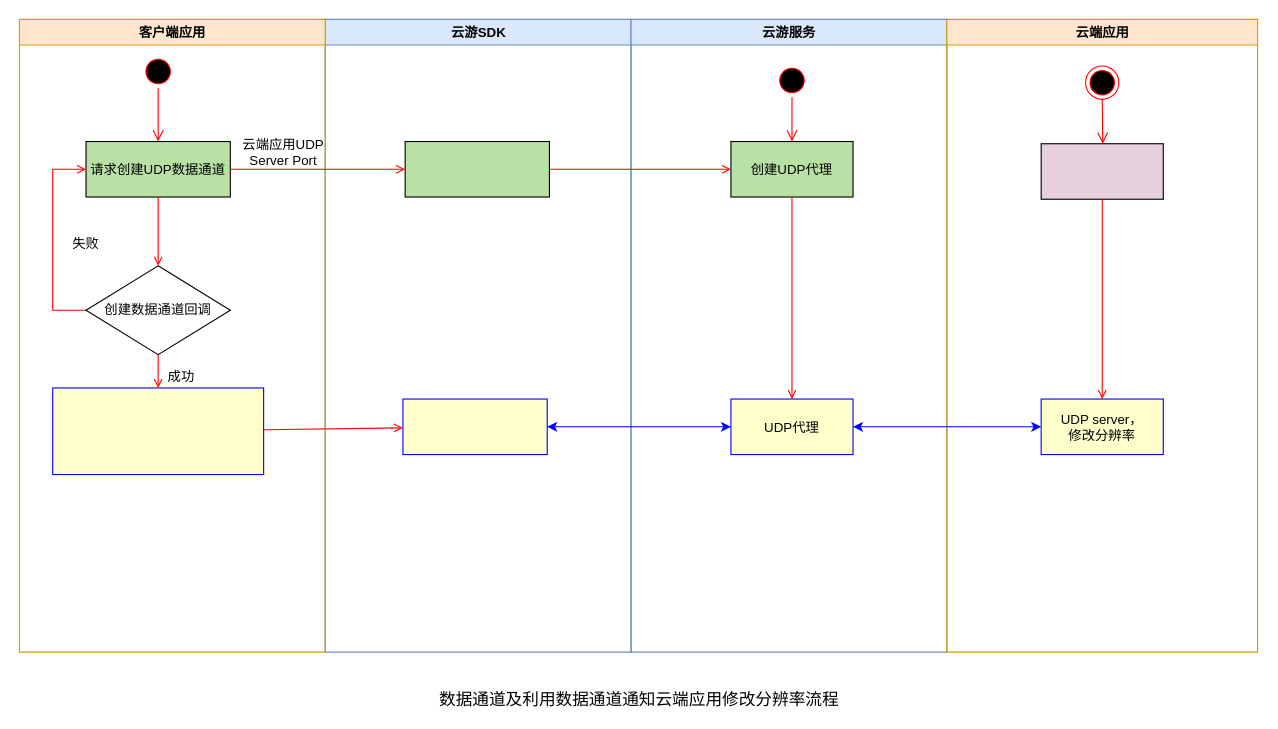
Image size: 1278x729. Some labels were removed from this diagram. Each missing label, with the centre of its shape:
"创建UDP server" belongs at pixel 1101 171.
"创建数据通道接口" belongs at pixel 476 168.
"收发自定义消息接口" belongs at pixel 474 426.
"收发自定义消息， 如通知云端应用修改窗口分辨率" belongs at pixel 158 431.
